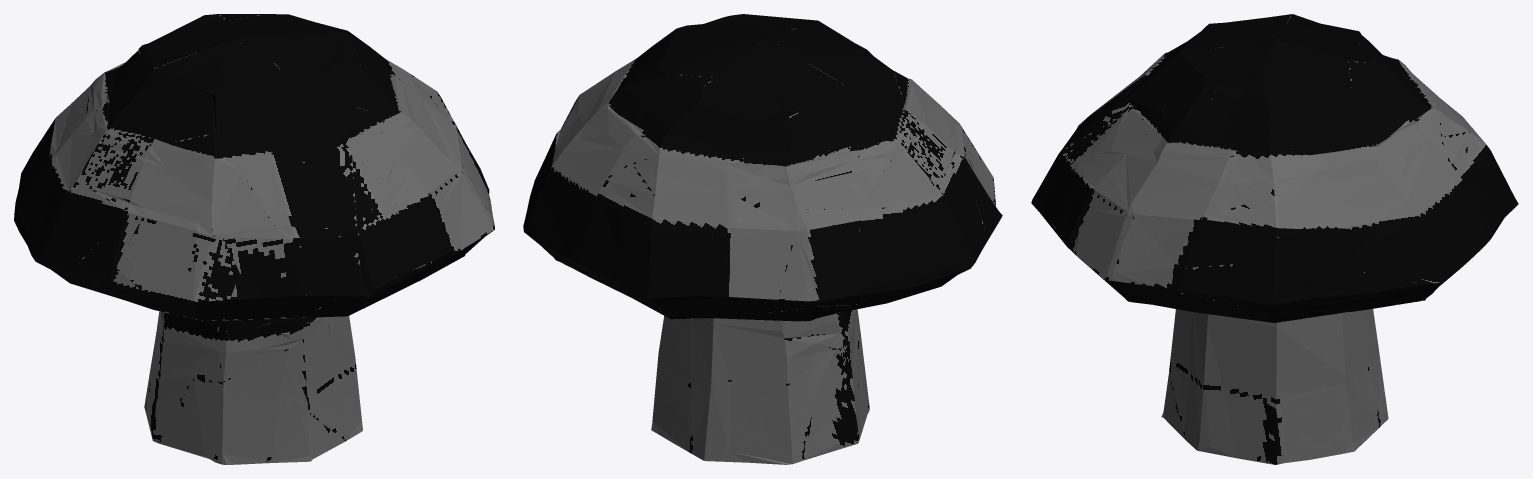
3 views of the same model, side by side, from view 1: azimuth 30°, elevation 25°; view 2: azimuth 150°, elevation 25°; view 3: azimuth 270°, elevation 25° (orthographic).
Parts seen in each view (by area): view 1: OBJ0b9; view 2: OBJ0b9; view 3: OBJ0b9.
Boxes of the visible parts, <box> form: OBJ0b9: <box>14,14,494,464</box>; OBJ0b9: <box>523,14,1002,464</box>; OBJ0b9: <box>1031,14,1518,464</box>.
Bounding box in the file's own units: 0.1798 × 0.155 × 0.1807.
Materials: 1 (1 with a texture image).
